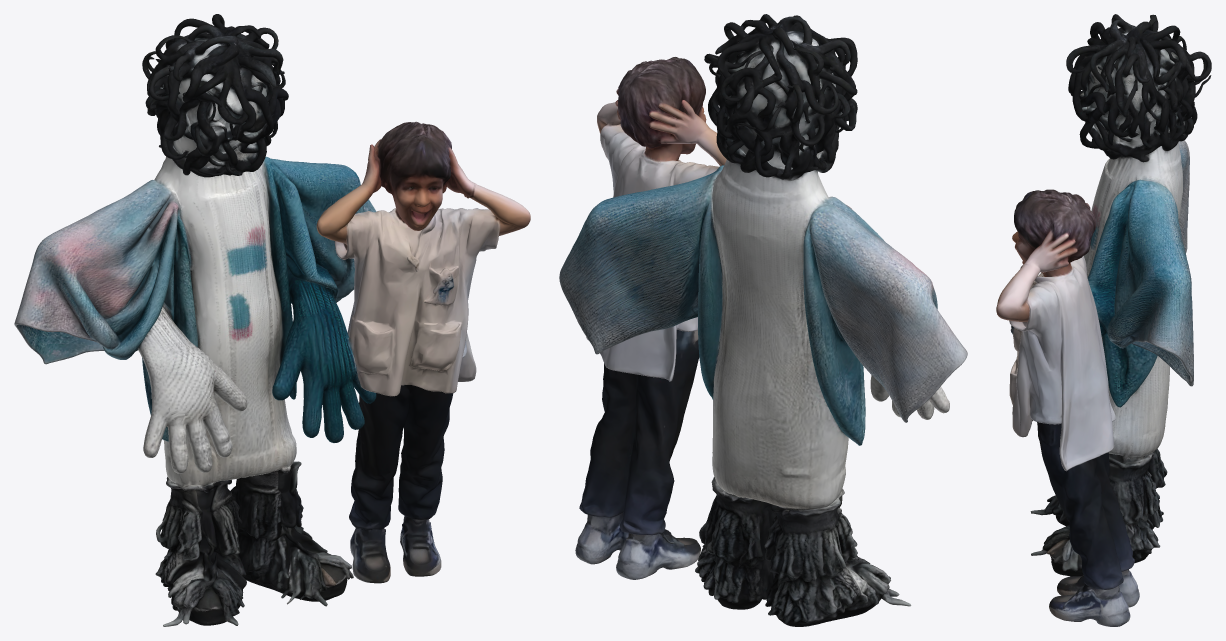
Rendered from Lucio baja.glb.
The picture shows the model from 3 angles, left to right: view 1: azimuth 30°, elevation 25°; view 2: azimuth 150°, elevation 25°; view 3: azimuth 270°, elevation 25°; orthographic projection. The views are drawn at different scales.
Visible parts, largest first — view 1: tripo_node_a733cf4a-6296-447b-80ee-f9166b8f20a6; view 2: tripo_node_a733cf4a-6296-447b-80ee-f9166b8f20a6; view 3: tripo_node_a733cf4a-6296-447b-80ee-f9166b8f20a6.
Part boxes in pixels (bbox=[...]): tripo_node_a733cf4a-6296-447b-80ee-f9166b8f20a6: bbox=[14, 14, 530, 626]; tripo_node_a733cf4a-6296-447b-80ee-f9166b8f20a6: bbox=[559, 14, 967, 626]; tripo_node_a733cf4a-6296-447b-80ee-f9166b8f20a6: bbox=[996, 14, 1211, 626].
Size of the model in its own units: 0.8027 by 1 by 0.3809.
1 material, 1 textured.
